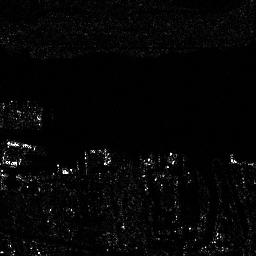ship: (5, 141, 38, 151)
